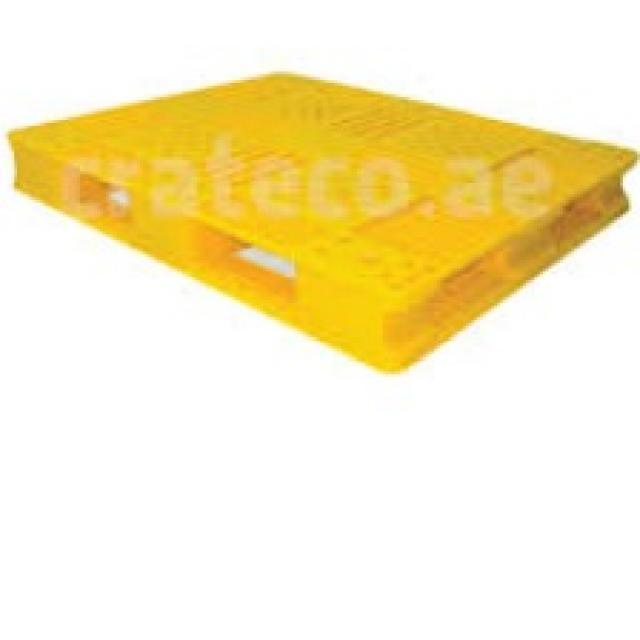plastic: (11, 60, 640, 373)
